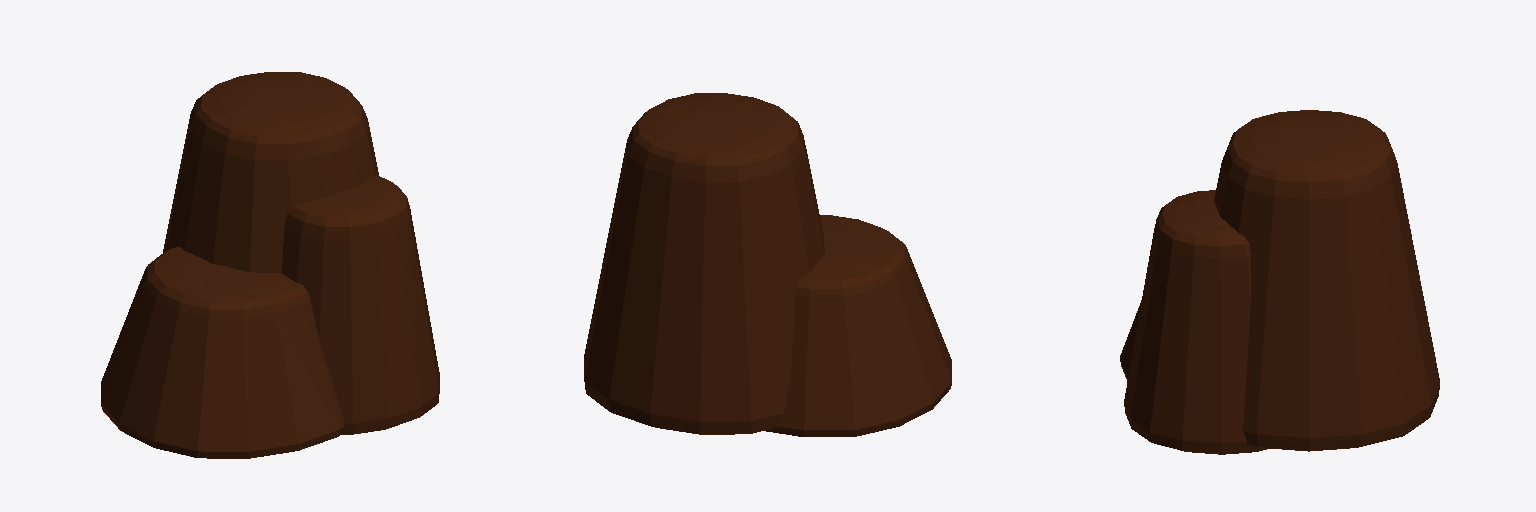
The model's file is RockPlatforms_1.obj.
3 renders of one model, left to right at view 1: azimuth 30°, elevation 25°; view 2: azimuth 150°, elevation 25°; view 3: azimuth 270°, elevation 25°, orthographic.
Visible parts, largest first — view 1: RockPlatforms_1_Cube.199; view 2: RockPlatforms_1_Cube.199; view 3: RockPlatforms_1_Cube.199.
Boxes of the visible parts, x1=… form: RockPlatforms_1_Cube.199: x1=101, y1=72, x2=439, y2=458; RockPlatforms_1_Cube.199: x1=584, y1=93, x2=951, y2=436; RockPlatforms_1_Cube.199: x1=1120, y1=110, x2=1439, y2=454.
Bounding box in the file's own units: 6.4 × 5.53 × 5.88.